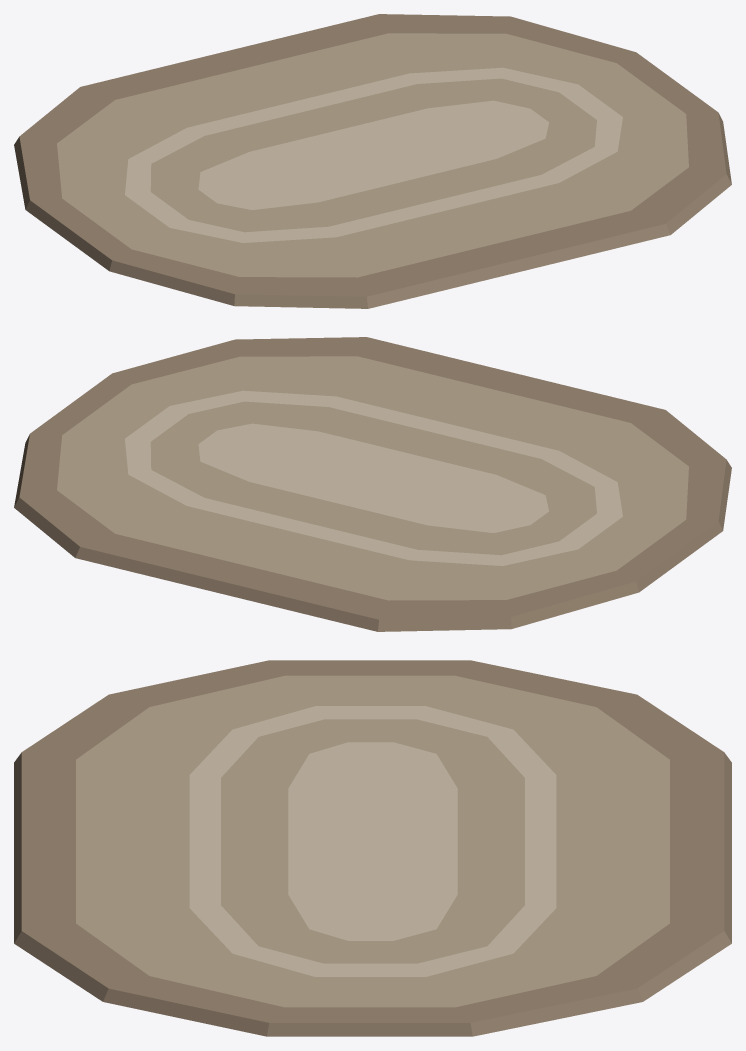
File: SM_Prop_Rug_01.obj
3 renders of one model, top to bottom at view 1: azimuth 30°, elevation 25°; view 2: azimuth 150°, elevation 25°; view 3: azimuth 270°, elevation 25°, orthographic. The views are drawn at different scales.
Parts seen in each view (by area): view 1: SM_Prop_Rug_01_0; view 2: SM_Prop_Rug_01_0; view 3: SM_Prop_Rug_01_0.
Part boxes in pixels (x1,y1,x2,y2): SM_Prop_Rug_01_0: (14,14,731,308); SM_Prop_Rug_01_0: (14,337,731,631); SM_Prop_Rug_01_0: (14,660,731,1036).
Size of the model in its own units: 2.13 by 0.0314 by 1.76.
Materials: 1 (1 with a texture image).
